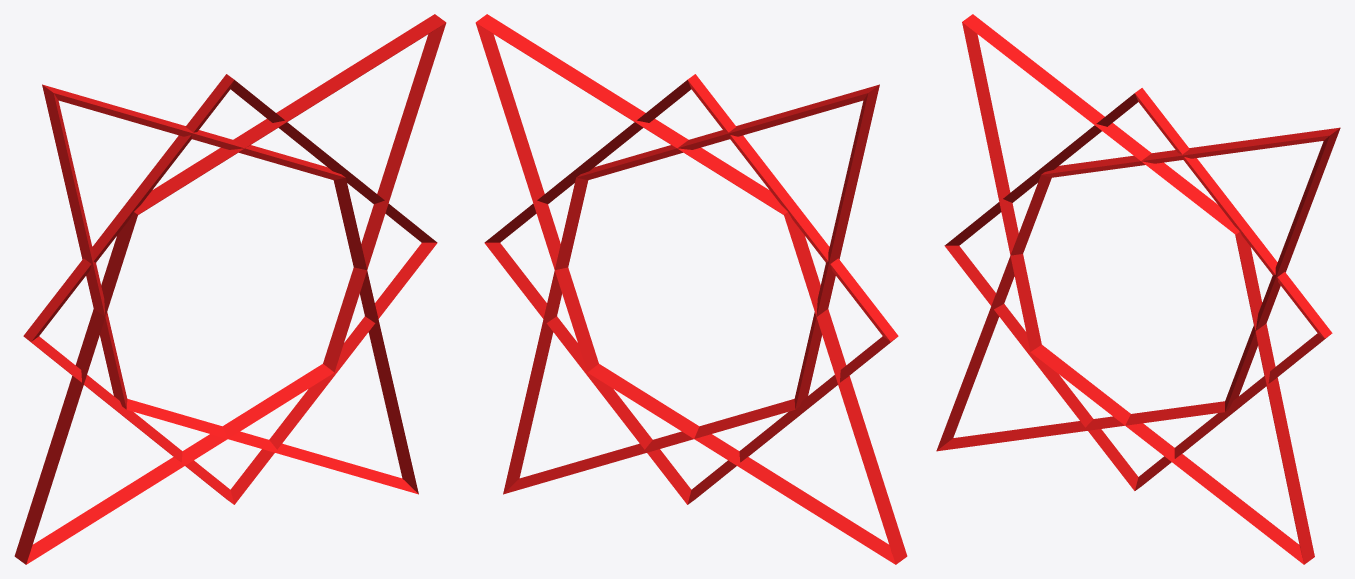
The model's file is LIH0210005.fbx.
The picture shows the model from 3 angles, left to right: view 1: azimuth 30°, elevation 25°; view 2: azimuth 150°, elevation 25°; view 3: azimuth 330°, elevation 25°; orthographic projection. The views are drawn at different scales.
Visible parts, largest first — view 1: smLIH0210005; view 2: smLIH0210005; view 3: smLIH0210005.
Boxes of the visible parts, x1,y1,x2,y2 form: smLIH0210005: [14, 14, 446, 564]; smLIH0210005: [475, 14, 907, 564]; smLIH0210005: [936, 14, 1340, 564].
Size of the model in its own units: 182 by 204 by 8.76.
